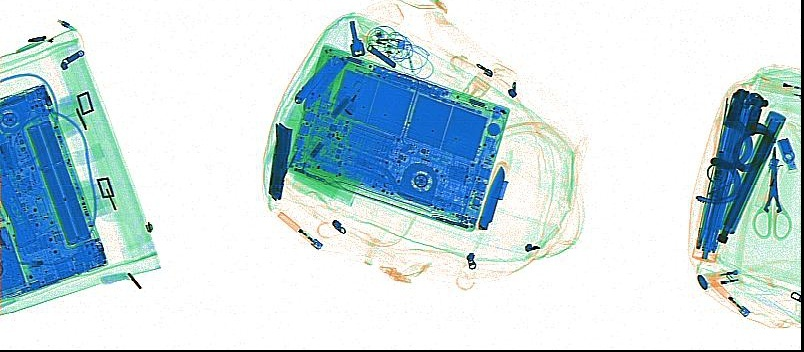handcuffs: (694, 89, 775, 205)
knife: (299, 57, 348, 110), (293, 55, 343, 103), (476, 161, 507, 231), (268, 122, 293, 200)
lighter: (275, 210, 323, 249), (708, 277, 750, 317), (695, 265, 741, 291)
scissors: (751, 147, 791, 240)
